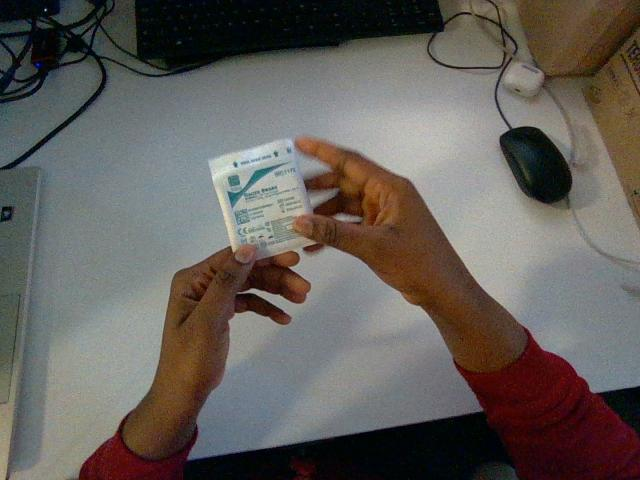gauze: (209, 139, 313, 258)
